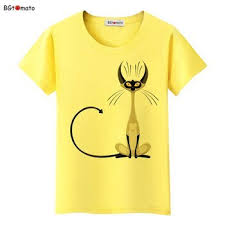cat: (111, 58, 157, 100)
